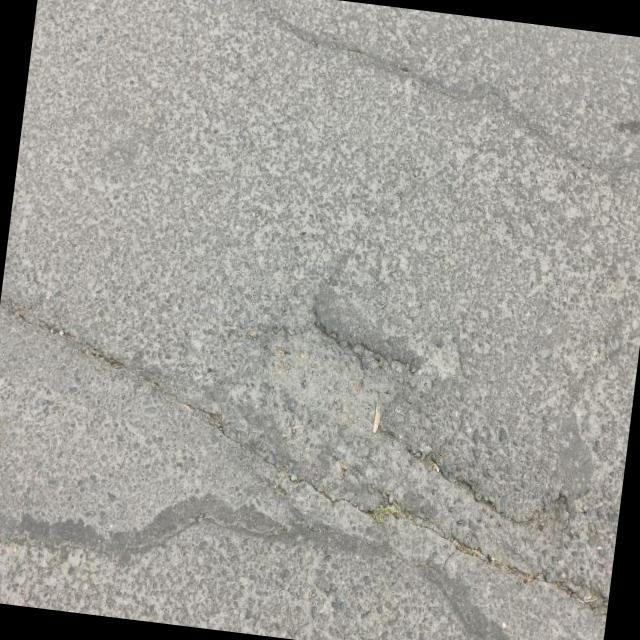Pothole: (215, 300, 573, 574)
